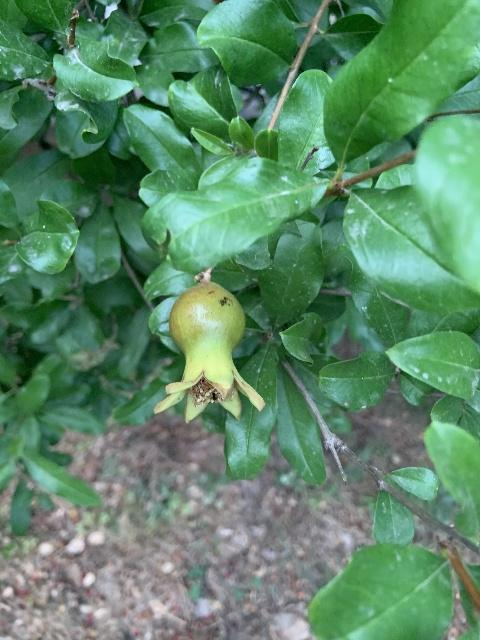early-fruit: (153, 281, 264, 424)
